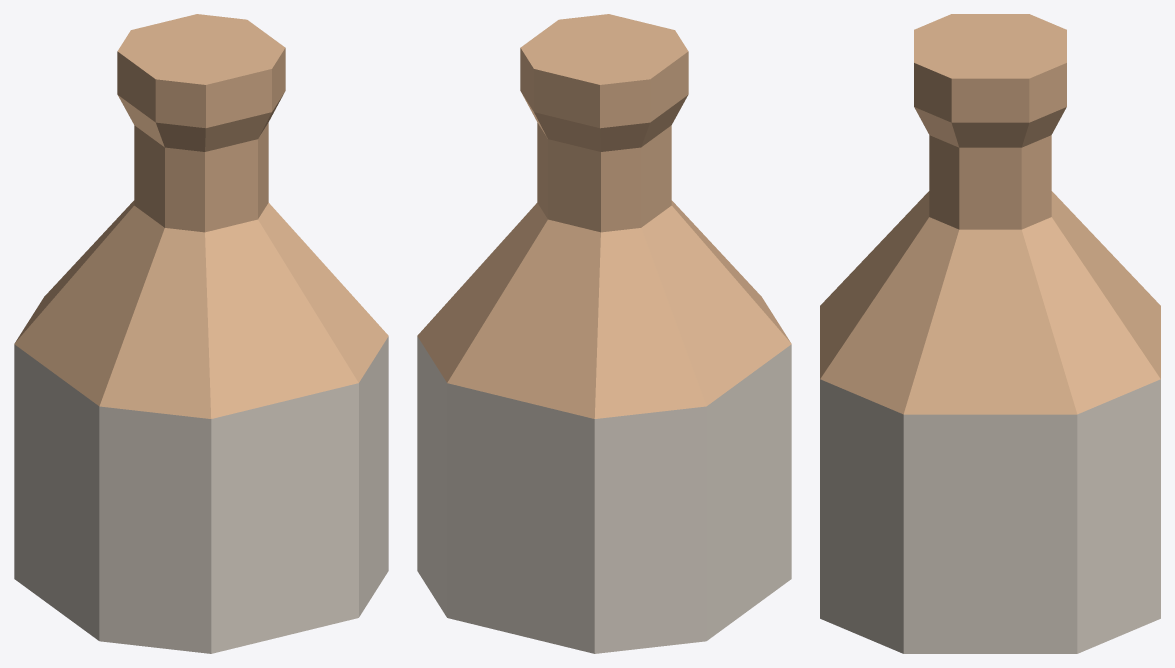
Rendered from bottleLarge.glb.
The picture shows the model from 3 angles, left to right: view 1: azimuth 30°, elevation 25°; view 2: azimuth 150°, elevation 25°; view 3: azimuth 270°, elevation 25°; orthographic projection.
Visible parts, largest first — view 1: bottleLarge; view 2: bottleLarge; view 3: bottleLarge.
Boxes of the visible parts, bbox=[...] form: bottleLarge: bbox=[14, 14, 388, 653]; bottleLarge: bbox=[417, 14, 791, 653]; bottleLarge: bbox=[820, 14, 1160, 653].
Bounding box in the file's own units: 0.245 × 0.425 × 0.245.
